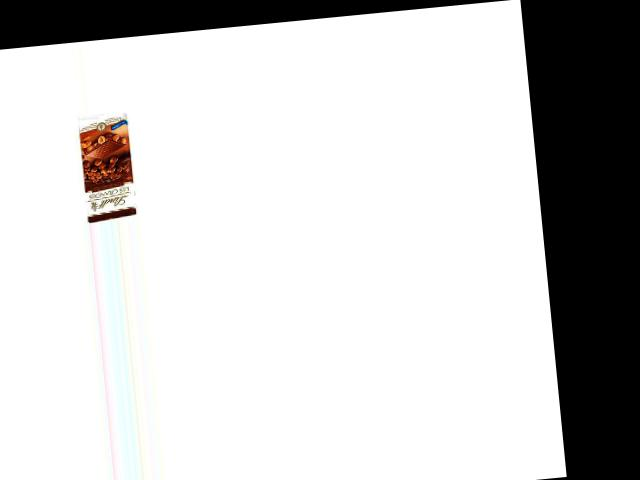chocolate: (70, 117, 139, 220)
